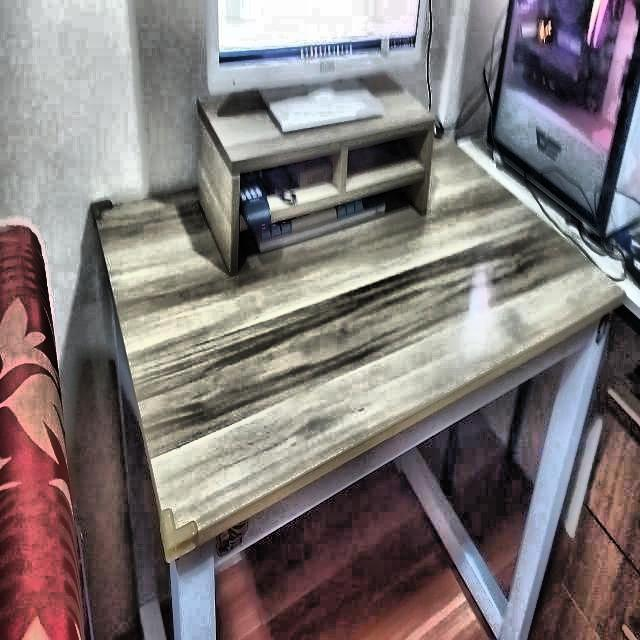mesa: (86, 123, 626, 640)
